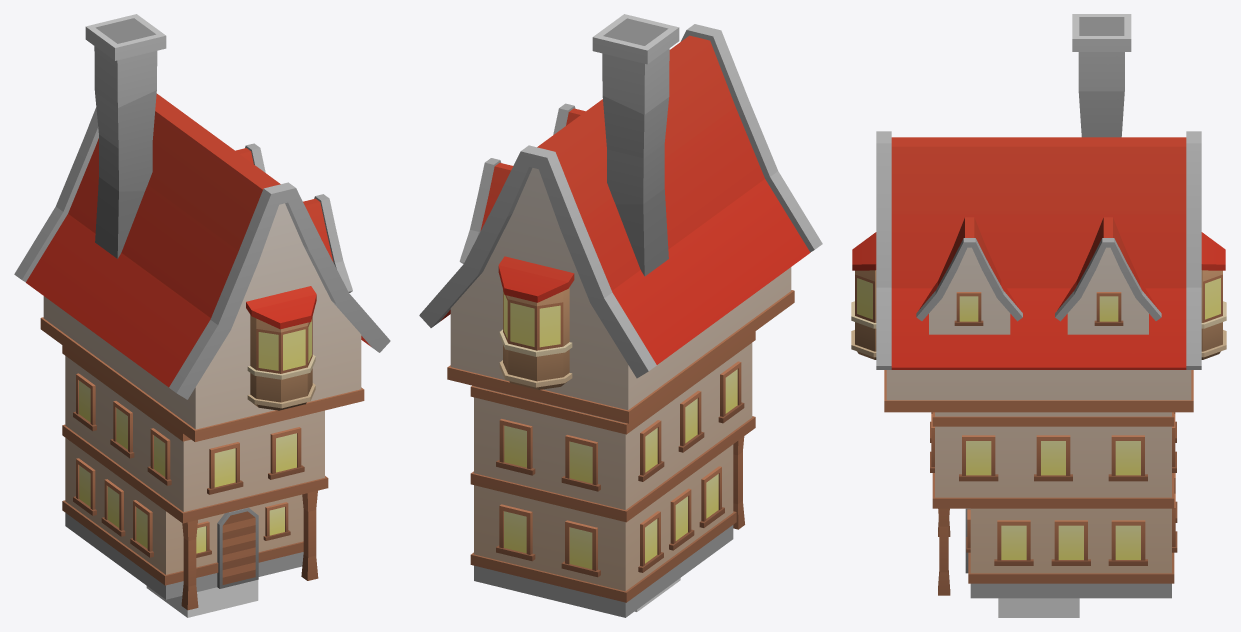
The model's file is trading-house.glb.
3 renders of one model, left to right at view 1: azimuth 30°, elevation 25°; view 2: azimuth 150°, elevation 25°; view 3: azimuth 270°, elevation 25°, orthographic. The views are drawn at different scales.
Visible parts, largest first — view 1: trading_house, Cube; view 2: trading_house; view 3: trading_house, Cube.
Boxes of the visible parts, left/top/right/bottom form: trading_house: left=14, top=14, right=390, bottom=610; Cube: left=146, top=580, right=258, bottom=617; trading_house: left=419, top=14, right=822, bottom=617; trading_house: left=851, top=14, right=1226, bottom=598; Cube: left=998, top=598, right=1079, bottom=617.
Bounding box in the file's own units: 6.07 × 14.92 × 9.19.
2 materials, 1 textured.
